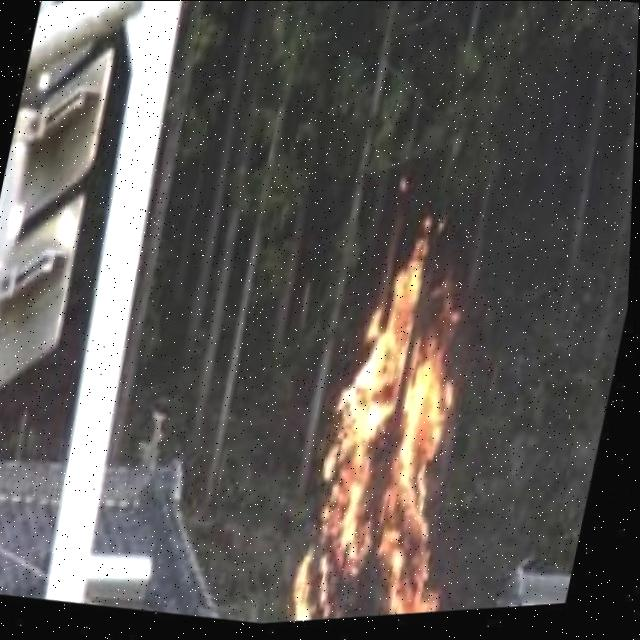fire: (249, 204, 483, 624)
